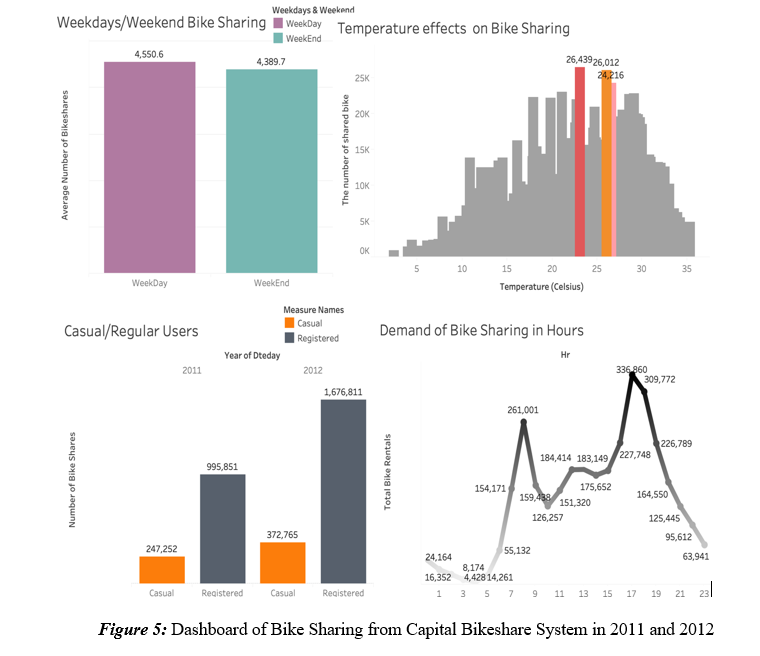

The dashboard page shown, as its layout file describes it:
{"tool":"tableau","page":{"name":"Dashboard 1","canvas":[1000,800],"ordinal":0},"visuals":[{"type":"legend","title":"Weekdays/Weekend Bike Sharing","param":"[federated.1dv8k2k0vvp51j12qr7tc0fzsay3].[none:Calculation_82120328339243008:nk]","box":[341,4,140,58]},{"type":"worksheet","title":"Weekdays/Weekend Bike Sharing","mark":"Automatic","rows":["cnt"],"cols":["Calculation_82120328339243008"],"box":[15,10,418,387]},{"type":"worksheet","title":"Temperature effects  on Bike Sharing","mark":"Bar","rows":["cnt"],"cols":["Calculation_37788020937052160"],"box":[436,18,562,382]},{"type":"legend","title":"Casual/Regular Users","param":"[federated.1dv8k2k0vvp51j12qr7tc0fzsay3].[:Measure Names]","box":[358,405,139,61]},{"type":"worksheet","title":"Demand of Bike Sharing in Hours","mark":"Line","rows":["cnt"],"cols":["hr"],"box":[499,422,501,382]},{"type":"worksheet","title":"Casual/Regular Users","mark":"Bar","cols":["dteday"],"box":[26,423,468,380]}]}

Visuals, with their boxes in screenshot pixels (x1, y1, x2, y2):
"Weekdays/Weekend Bike Sharing" legend: box(245, 9, 354, 54)
"Weekdays/Weekend Bike Sharing" worksheet: box(0, 14, 317, 314)
"Temperature effects  on Bike Sharing" worksheet (Bar marks): box(319, 20, 756, 317)
"Casual/Regular Users" legend: box(258, 321, 366, 368)
"Demand of Bike Sharing in Hours" worksheet (Line marks): box(368, 334, 757, 631)
"Casual/Regular Users" worksheet (Bar marks): box(0, 335, 364, 630)
